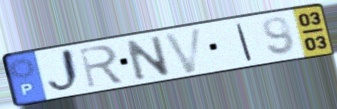9: (260, 16, 298, 57)
I: (234, 22, 255, 63)
J: (46, 46, 85, 97)
N: (122, 33, 173, 83)
R: (77, 43, 127, 90)
V: (162, 25, 206, 76)
